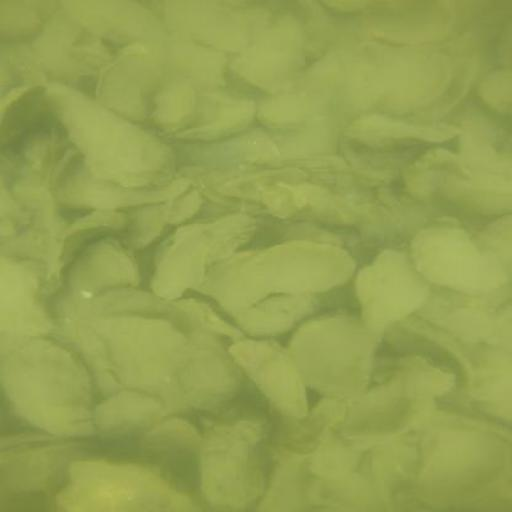Oyster-Closed: (52, 88, 174, 187), (85, 317, 189, 406), (205, 242, 354, 304), (154, 214, 260, 298), (6, 338, 95, 435), (53, 454, 198, 509), (289, 313, 373, 399), (199, 411, 272, 509), (59, 161, 197, 211), (57, 1, 172, 55), (229, 340, 305, 420), (357, 249, 430, 332), (411, 224, 498, 293), (235, 14, 308, 95), (96, 46, 159, 124), (1, 256, 60, 338), (160, 97, 259, 144), (72, 239, 143, 296), (240, 295, 332, 337), (97, 390, 170, 442), (182, 346, 239, 408), (364, 2, 449, 43), (154, 80, 197, 133)
Oyster-Open: (380, 49, 478, 120), (348, 114, 471, 151), (393, 356, 456, 408), (1, 86, 48, 143)
